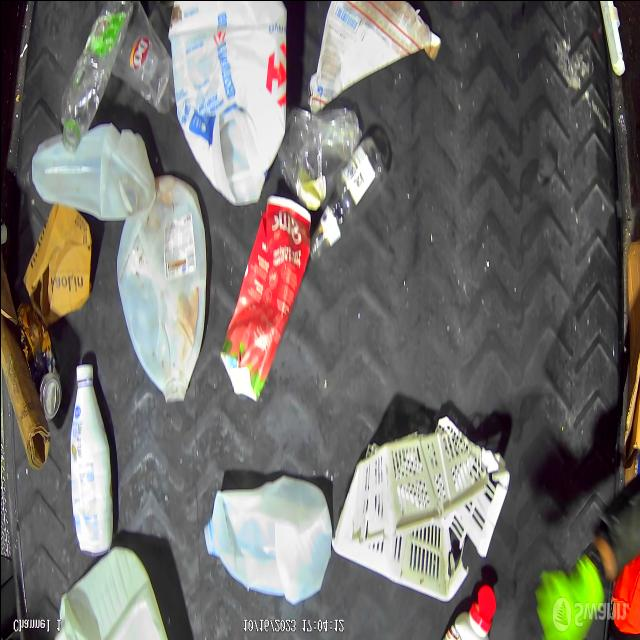can: (22, 313, 65, 429)
milk_jug: (175, 0, 287, 211), (116, 190, 209, 408), (198, 483, 328, 603), (22, 140, 148, 221), (69, 384, 108, 552)
non_white_jug: (220, 203, 306, 403)
plastic_bottle: (56, 0, 126, 159), (305, 137, 391, 265), (286, 104, 364, 214), (112, 8, 171, 104)
